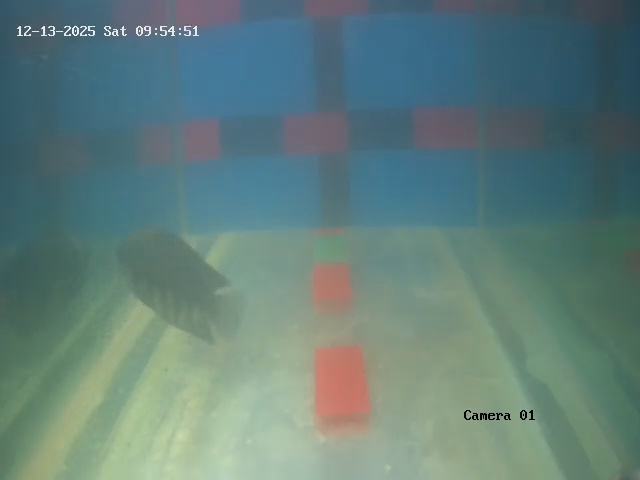fish: (108, 223, 241, 339)
